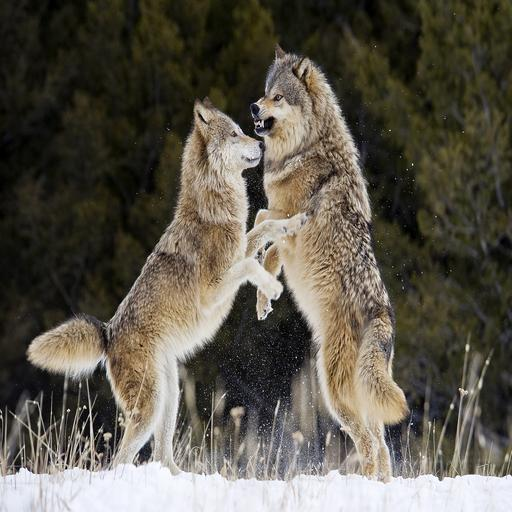Wolf: (21, 94, 315, 482), (230, 42, 416, 482)
